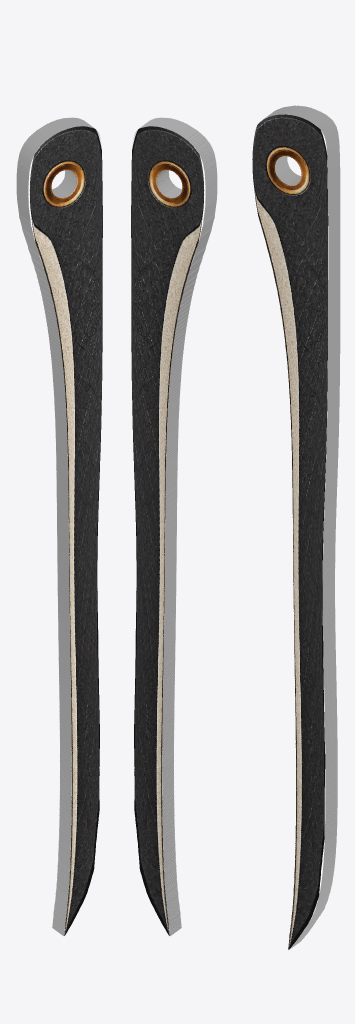
The model's file is LowerLeg.glb.
3 renders of one model, left to right at view 1: azimuth 30°, elevation 25°; view 2: azimuth 150°, elevation 25°; view 3: azimuth 330°, elevation 25°, orthographic. The views are drawn at different scales.
Visible parts, largest first — view 1: PaperVolume; view 2: PaperVolume; view 3: PaperVolume.
Boxes of the visible parts, <box> form: PaperVolume: <box>16,117,102,935</box>; PaperVolume: <box>131,117,217,935</box>; PaperVolume: <box>252,105,340,949</box>.
Bounding box in the file's own units: 0.3 × 3.61 × 0.08.
Materials: 3 (2 with a texture image).
